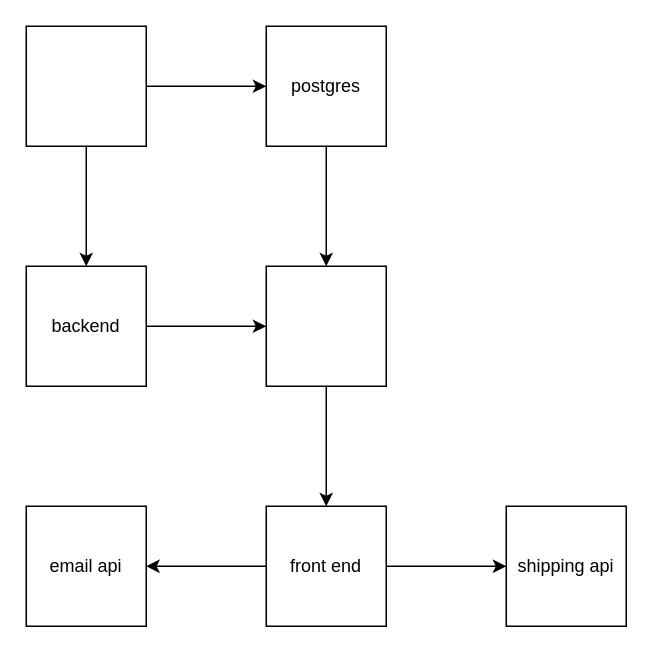
This 653x653 diagram has some shape labels left out. Each missing label, with the centre of its shape:
apache: point (325, 325)
Bare metal: point (85, 85)
